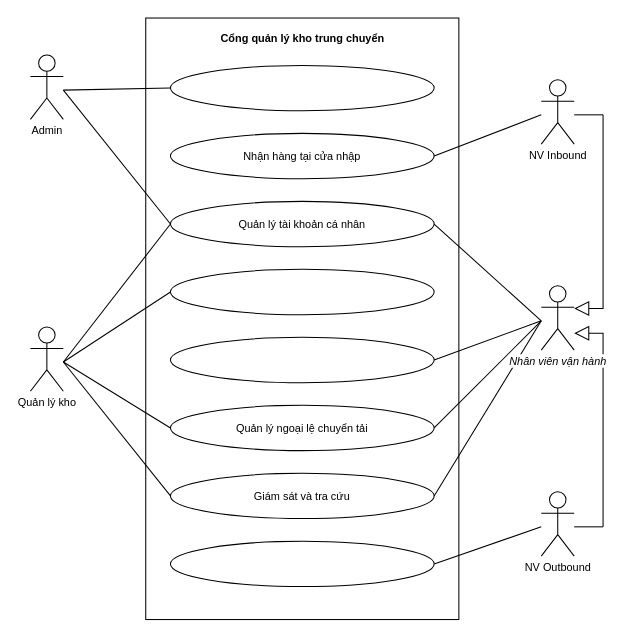
The diagram is 636 pixels wide and 638 high, and some of its shapes have lost their labels. Here are the shapes that lost their labels. From the top down, the centre of each, then its label:
At (301,87): "Quản trị hệ thống".
At (301,291): "Lập kế hoạch xe và ASN".
At (301,359): "Bàn giao pallet nội bộ".
At (301,563): "Xuất hàng tại cửa xuất".
